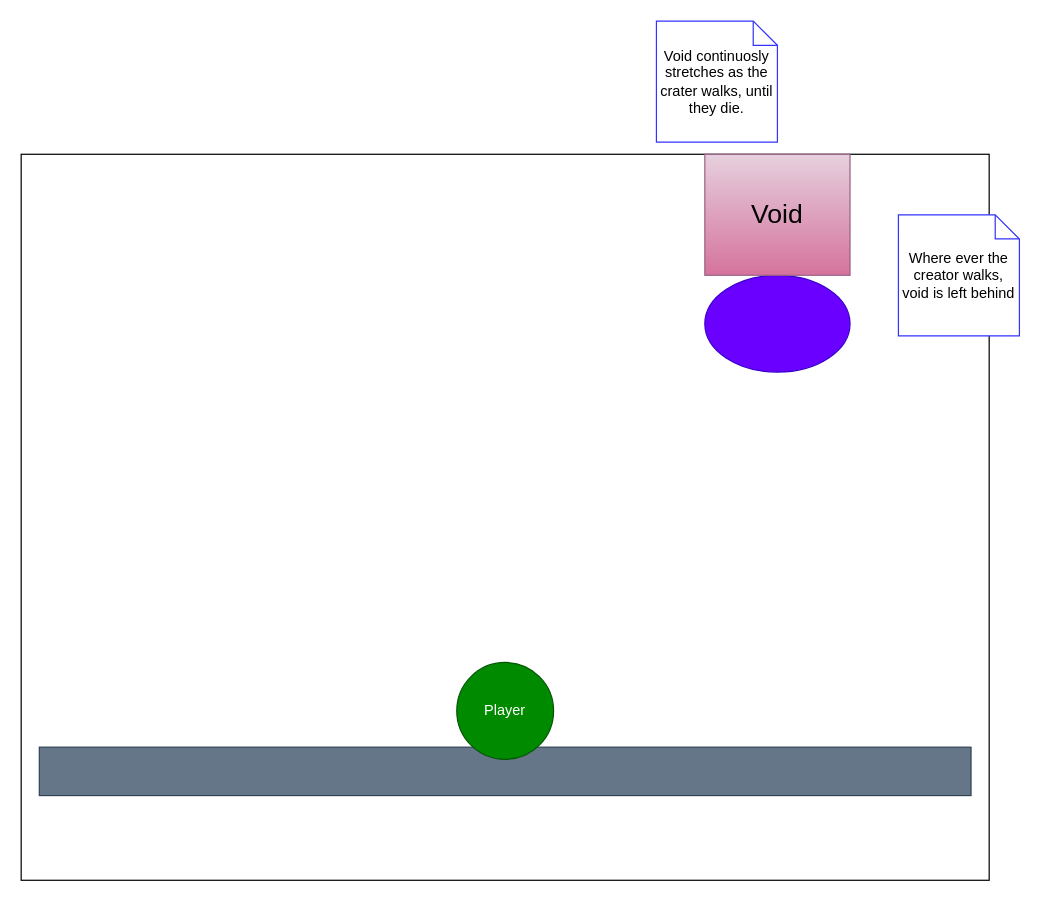
This 1041x901 diagram has some shape labels left out. The shapes that lost their labels are listed below. From the top down, each one's centre as x and y in pixels, then its label:
point (777, 323): Crater Creator
point (504, 771): Castle
